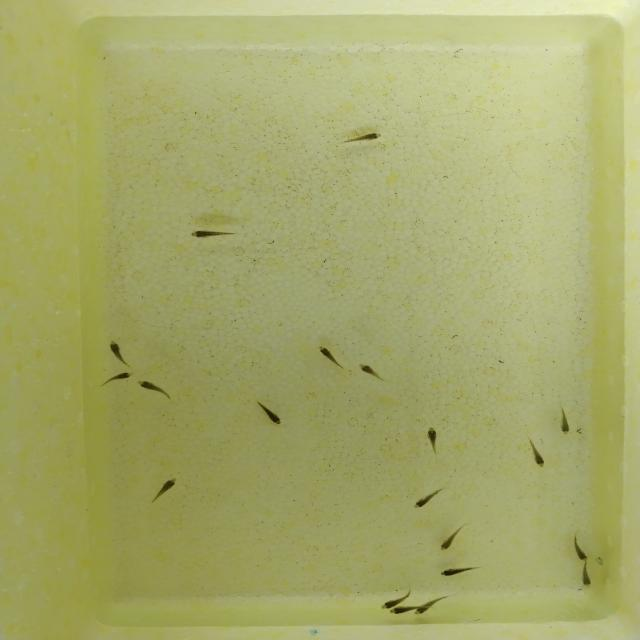fingerling: (407, 486, 443, 514), (152, 470, 184, 501), (437, 522, 466, 554), (528, 436, 550, 474), (340, 129, 388, 146), (316, 345, 344, 374), (422, 422, 444, 456), (107, 333, 130, 364), (136, 378, 171, 398), (258, 401, 284, 427), (186, 228, 242, 240), (435, 565, 481, 578), (356, 361, 384, 382), (569, 534, 590, 562), (378, 590, 410, 607), (557, 408, 574, 436), (413, 599, 431, 621), (581, 562, 593, 594), (101, 372, 138, 380), (388, 604, 409, 618)
